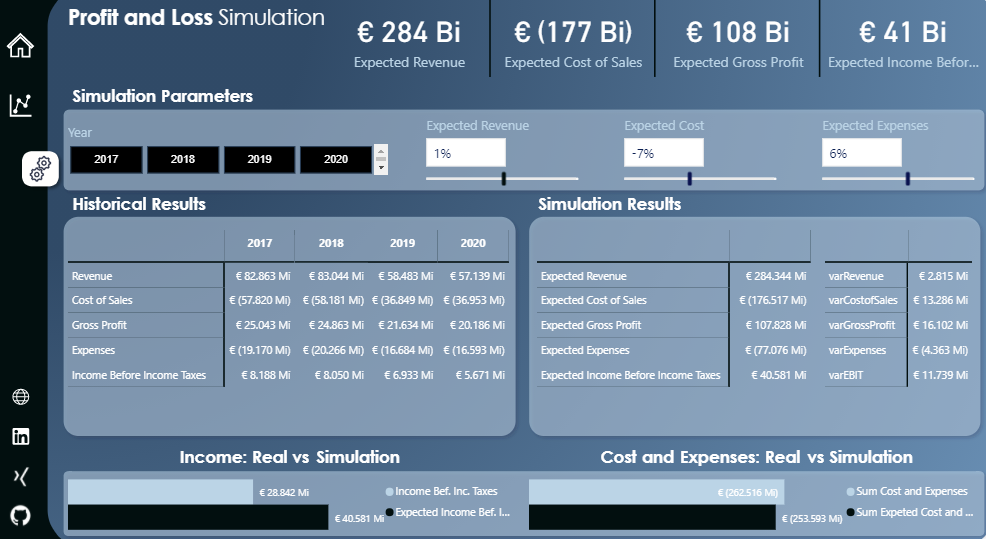

Layout of this report page (visuals, bound fields, positions):
{"tool":"powerbi","page":{"name":"simulator","canvas":[1280,720],"ordinal":2},"visuals":[{"type":"card","fields":{"Values":["_Measures_Simulation.Expected Revenue"]},"box":[436.1,25.7,205.7,94],"z":0},{"type":"card","fields":{"Values":["_Measures_Simulation.Expected Cost of Sales"]},"box":[641.8,25.7,205.7,94],"z":1000},{"type":"card","fields":{"Values":["_Measures_Simulation.Expected Gross Profit"]},"box":[847.4,25.7,205.7,94],"z":2000},{"type":"card","fields":{"Values":["_Measures_Simulation.Expected EBIT"]},"box":[1053.2,25.9,206,94],"z":3000},{"type":"slicer","fields":{"Values":["WIFRevenue.WIFRevenue"]},"box":[547.7,164.7,215.6,93.2],"z":4000},{"type":"slicer","fields":{"Values":["WIFCost.WIFCost"]},"box":[795.3,164.9,215.6,93],"z":5000},{"type":"slicer","fields":{"Values":["WIFExpenses.WIFExpenses"]},"box":[1041.9,164.9,216.5,93],"z":6000},{"type":"pivotTable","fields":{"Columns":["dCalendar.Year"],"Values":["_Measures.Revenue","_Measures.Cost of Sales","_Measures.Gross Profit","_Measures.Expenses","_Measures.EBIT"]},"box":[107,307.1,562.4,270],"z":7000},{"type":"pivotTable","fields":{"Values":["_Measures_Simulation.Expected Revenue","_Measures_Simulation.Expected Cost of Sales","_Measures_Simulation.Expected Gross Profit","_Measures_Simulation.Expected Expenses","_Measures_Simulation.Expected EBIT"]},"box":[693.5,307.1,359.7,270],"z":8000},{"type":"pivotTable","fields":{"Values":["_Measures_Simulation.varRevenue","_Measures_Simulation.varCostofSales","_Measures_Simulation.varGrossProfit","_Measures_Simulation.varExpenses","_Measures_Simulation.varEBIT"]},"box":[1054,307.1,196.7,270],"z":9000},{"type":"clusteredBarChart","fields":{"Y":["_Measures.EBIT","_Measures_Simulation.Expected EBIT"]},"box":[107,611.5,576.2,81.1],"z":10000},{"type":"clusteredBarChart","fields":{"Y":["_Measures.Sum Cost and Expenses","_Measures_Simulation.Sum Expeted Cost and Expenses"]},"box":[683.1,611.5,576.2,81.1],"z":11000},{"type":"actionButton","box":[24,132.3,62.7,55.9],"z":12000},{"type":"actionButton","box":[24,55.9,62.7,55.9],"z":15000},{"type":"actionButton","box":[38.8,504.2,30.8,35.4],"z":16000},{"type":"actionButton","box":[38.8,552.2,30.8,35.4],"z":17000},{"type":"actionButton","box":[39.9,603.5,30.8,35.4],"z":18000},{"type":"actionButton","box":[37.6,653.7,30.8,35.4],"z":19000},{"type":"ChicletSlicer1448559807354","title":"Year","fields":{"Category":["dCalendar.Year"]},"box":[107,174.2,409.7,76.8],"z":20000}]}

Visuals, with their boxes on the page's 1280x720 design canvas (x1, y1, x2, y2). These are canvas units, not pixel positions in the 986x539 screenshot, which may show the page scaled, cropped or inside an application window:
card - _Measures_Simulation.Expected Revenue: {"left": 436, "top": 26, "right": 642, "bottom": 120}
card - _Measures_Simulation.Expected Cost of Sales: {"left": 642, "top": 26, "right": 848, "bottom": 120}
card - _Measures_Simulation.Expected Gross Profit: {"left": 847, "top": 26, "right": 1053, "bottom": 120}
card - _Measures_Simulation.Expected EBIT: {"left": 1053, "top": 26, "right": 1259, "bottom": 120}
slicer - WIFRevenue.WIFRevenue: {"left": 548, "top": 165, "right": 763, "bottom": 258}
slicer - WIFCost.WIFCost: {"left": 795, "top": 165, "right": 1011, "bottom": 258}
slicer - WIFExpenses.WIFExpenses: {"left": 1042, "top": 165, "right": 1258, "bottom": 258}
pivotTable - dCalendar.Year x _Measures.Revenue: {"left": 107, "top": 307, "right": 669, "bottom": 577}
pivotTable - _Measures_Simulation.Expected Revenue x _Measures_Simulation.Expected Cost of Sales: {"left": 694, "top": 307, "right": 1053, "bottom": 577}
pivotTable - _Measures_Simulation.varRevenue x _Measures_Simulation.varCostofSales: {"left": 1054, "top": 307, "right": 1251, "bottom": 577}
clusteredBarChart - _Measures.EBIT x _Measures_Simulation.Expected EBIT: {"left": 107, "top": 612, "right": 683, "bottom": 693}
clusteredBarChart - _Measures.Sum Cost and Expenses x _Measures_Simulation.Sum Expeted Cost and Expenses: {"left": 683, "top": 612, "right": 1259, "bottom": 693}
actionButton: {"left": 24, "top": 132, "right": 87, "bottom": 188}
actionButton: {"left": 24, "top": 56, "right": 87, "bottom": 112}
actionButton: {"left": 39, "top": 504, "right": 70, "bottom": 540}
actionButton: {"left": 39, "top": 552, "right": 70, "bottom": 588}
actionButton: {"left": 40, "top": 604, "right": 71, "bottom": 639}
actionButton: {"left": 38, "top": 654, "right": 68, "bottom": 689}
"Year" ChicletSlicer1448559807354: {"left": 107, "top": 174, "right": 517, "bottom": 251}
